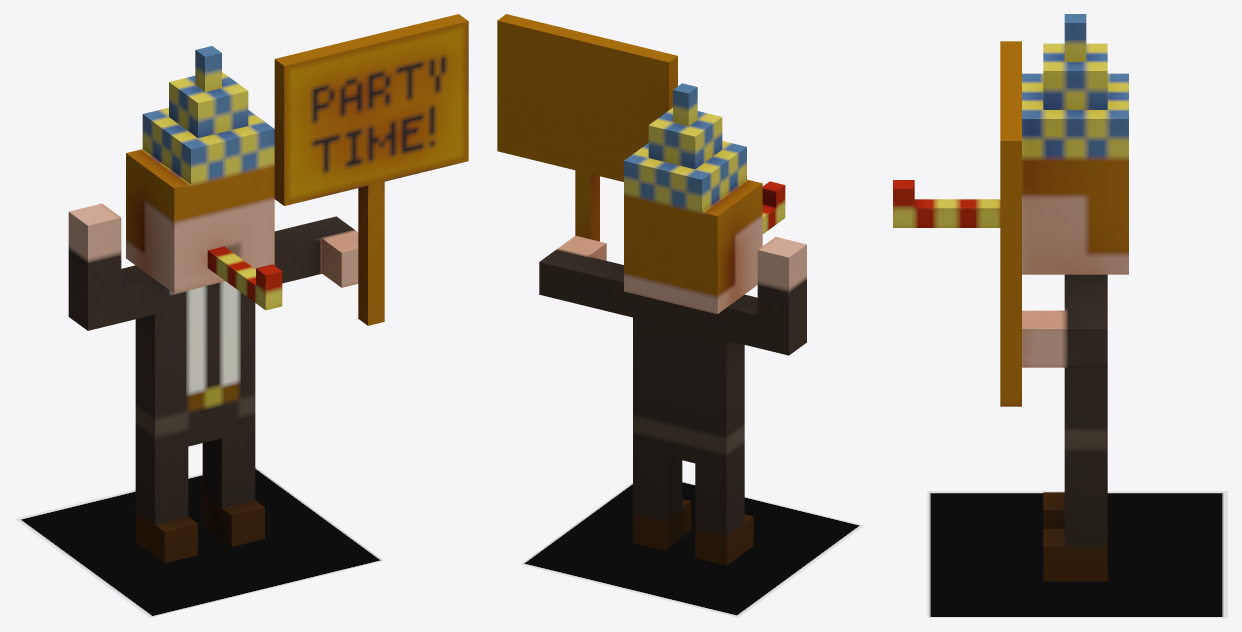
Rendered from conga_line_head.FBX.
The picture shows the model from 3 angles, left to right: view 1: azimuth 30°, elevation 25°; view 2: azimuth 150°, elevation 25°; view 3: azimuth 270°, elevation 25°; orthographic projection. The views are drawn at different scales.
Parts seen in each view (by area): view 1: conga_line_head, conga_line_head_soft_shadow; view 2: conga_line_head, conga_line_head_soft_shadow; view 3: conga_line_head, conga_line_head_soft_shadow.
Boxes of the visible parts, x1,y1,x2,y2 form: conga_line_head: (68, 14, 468, 563); conga_line_head_soft_shadow: (15, 467, 383, 617); conga_line_head: (497, 14, 806, 565); conga_line_head_soft_shadow: (520, 481, 863, 617); conga_line_head: (893, 14, 1128, 581); conga_line_head_soft_shadow: (927, 491, 1227, 617).
Bounding box in the file's own units: 1050 × 1400 × 780.
